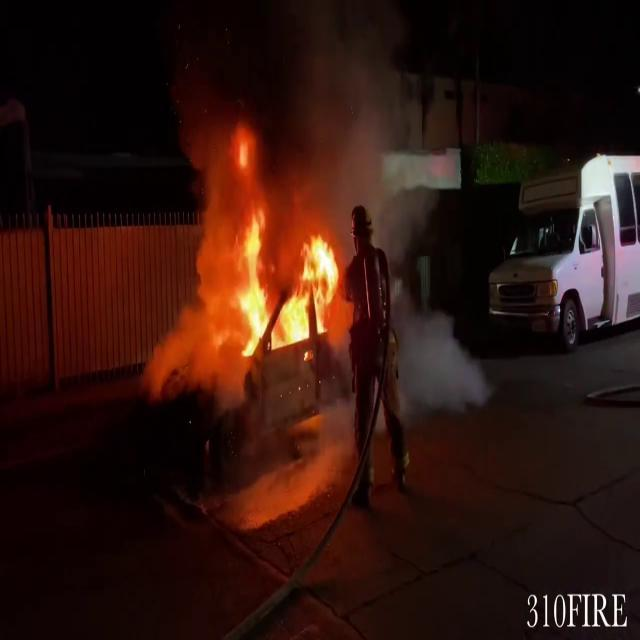Fire: (188, 150, 346, 358)
Smoke: (164, 1, 416, 218)
